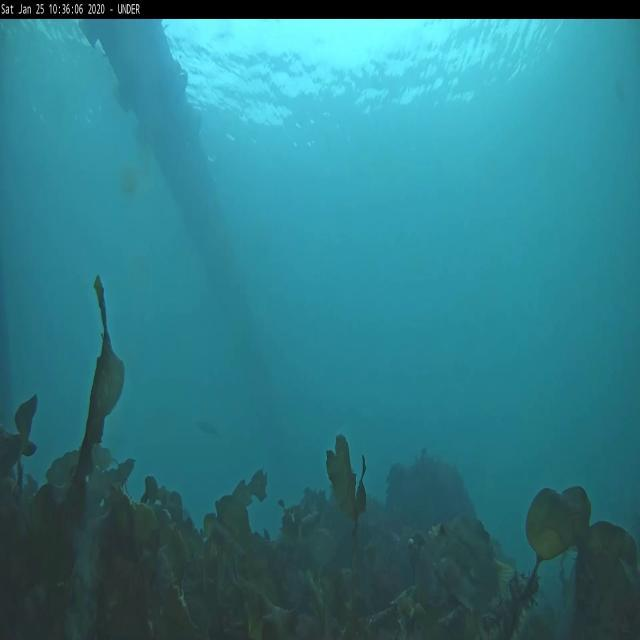fish: (194, 413, 218, 441)
